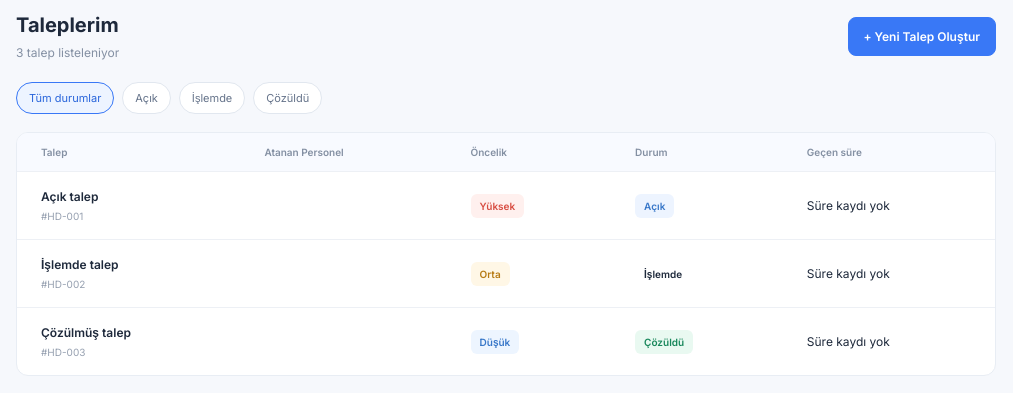
it: filters employee tickets by open, in-progress, and resolved status
The width and height of the screenshot is (1013, 393).
Expected: the text "Açık talep" is shown, x1=41 y1=189 x2=98 y2=204
Expected: the text "İşlemde talep" is shown, x1=41 y1=257 x2=119 y2=272
Click the link "Açık" at (147, 98), box x1=122 y1=82 x2=171 y2=114
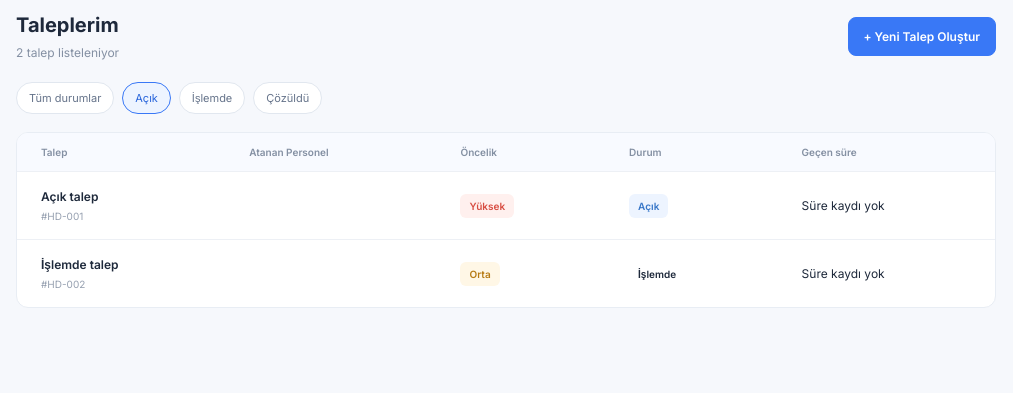
Expected: the text "Açık talep" is shown, x1=41 y1=189 x2=98 y2=204
Expected: the link "Çözülmüş talep" is gone
Click the link "İşlemde" at (212, 98), box x1=179 y1=82 x2=245 y2=114
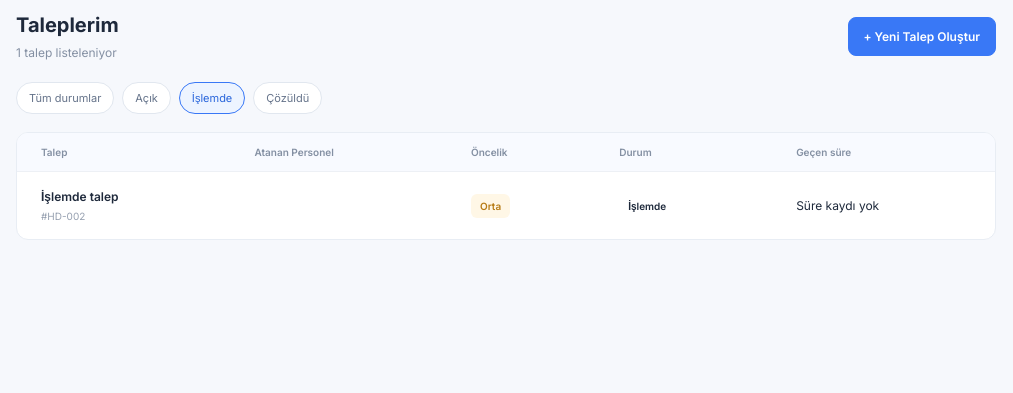
Expected: the text "İşlemde talep" is shown, x1=41 y1=189 x2=119 y2=204
Expected: the link "Açık talep" is gone
Click the link "Çözüldü" at (288, 98), box x1=253 y1=82 x2=322 y2=114
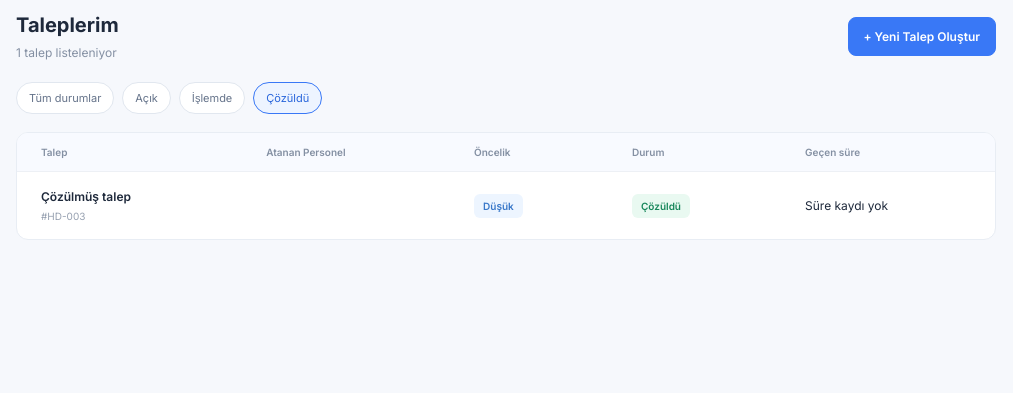
Expected: the text "Çözülmüş talep" is shown, x1=41 y1=189 x2=131 y2=204
Expected: the link "İşlemde talep" is gone
